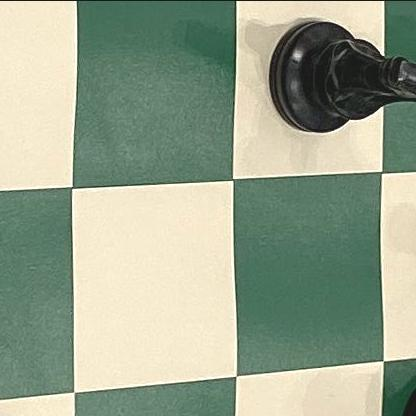black-knight: (267, 12, 416, 136)
